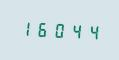four: (66, 20, 81, 41), (82, 21, 97, 41)
one: (18, 17, 33, 38)
six: (34, 18, 49, 39)
zero: (50, 19, 65, 40)
